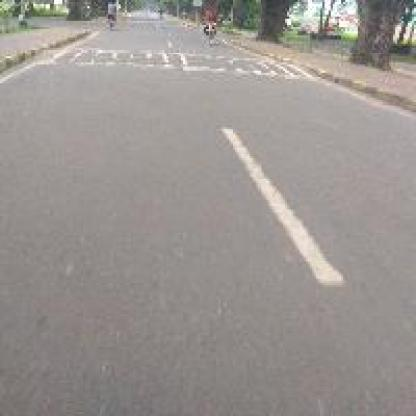Speed Bump: (54, 48, 310, 77)
